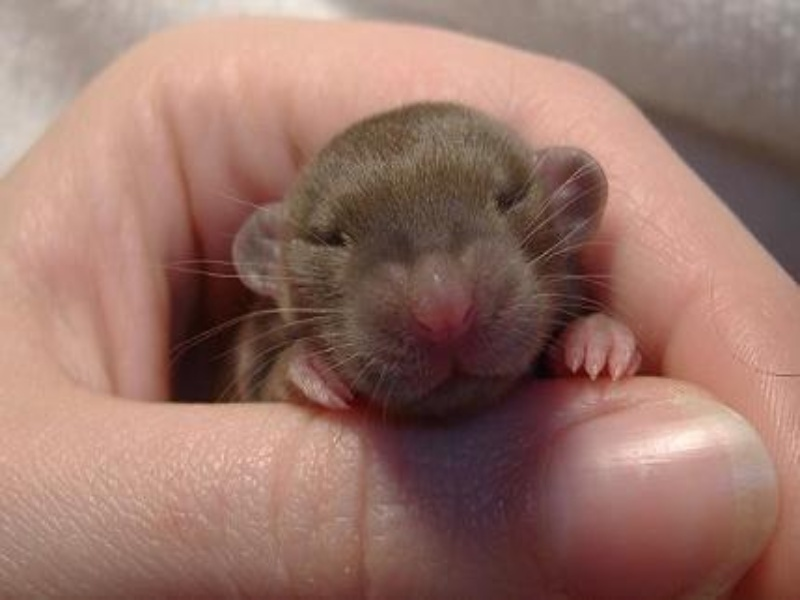minkish: (209, 98, 647, 432)
